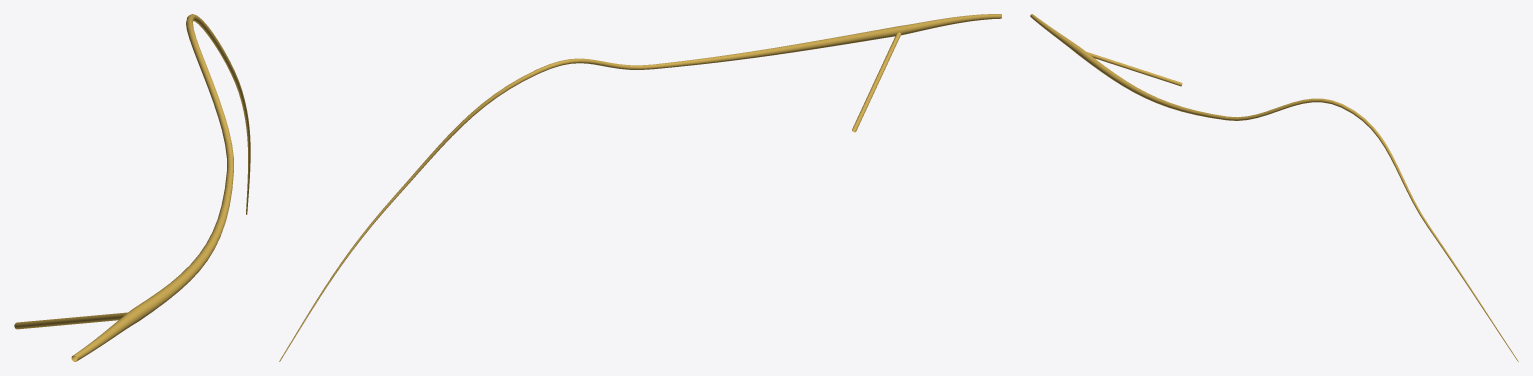
3 renders of one model, left to right at view 1: azimuth 30°, elevation 25°; view 2: azimuth 150°, elevation 25°; view 3: azimuth 270°, elevation 25°, orthographic. The views are drawn at different scales.
Parts seen in each view (by area): view 1: 左侧髂腹下神经; view 2: 左侧髂腹下神经; view 3: 左侧髂腹下神经.
Part boxes in pixels (x1=…): 左侧髂腹下神经: x1=14, y1=14, x2=250, y2=361; 左侧髂腹下神经: x1=279, y1=14, x2=1001, y2=361; 左侧髂腹下神经: x1=1030, y1=14, x2=1518, y2=361.
Size of the model in its own units: 0.1497 by 0.0851 by 0.1874.
